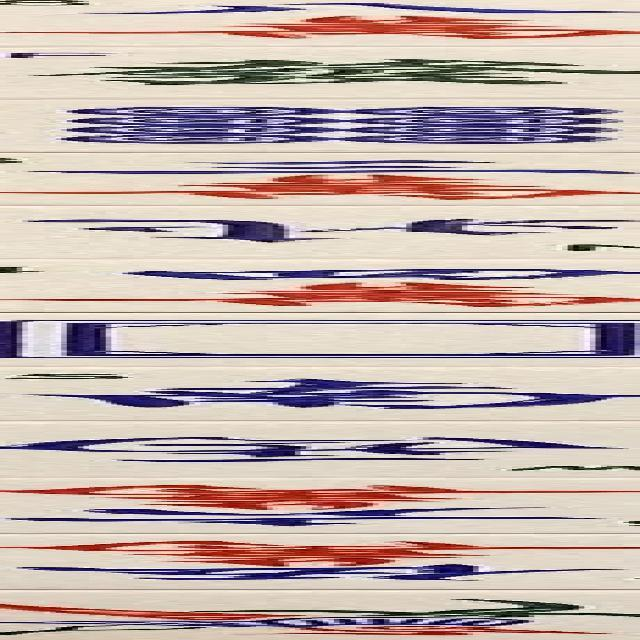hdg: (0, 48, 640, 98)
hdw: (0, 314, 640, 364)
hwn: (0, 206, 612, 258)
hws: (0, 366, 640, 419)
hww: (0, 421, 612, 476)
sb1: (28, 589, 640, 640)
sc3: (0, 152, 640, 204)
sc4: (28, 260, 640, 311)
sc5: (0, 534, 640, 588)
sc6: (0, 476, 584, 533)
sc8: (55, 0, 640, 46)
sd8: (28, 100, 640, 151)
